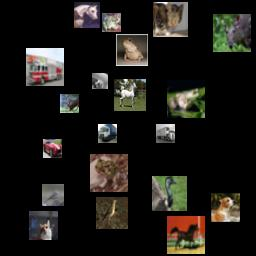automobile: (43, 139, 62, 158)
bird: (152, 176, 187, 211), (96, 197, 128, 229), (42, 184, 64, 206)
cat: (153, 2, 188, 37), (29, 211, 58, 240), (92, 73, 108, 89)
deer: (213, 14, 251, 52), (60, 94, 79, 113)
dog: (211, 193, 240, 222)
frog: (90, 154, 128, 192), (167, 80, 205, 118), (116, 34, 148, 66), (102, 13, 121, 32)
truck: (26, 48, 64, 86), (156, 124, 175, 143), (98, 124, 117, 143)
